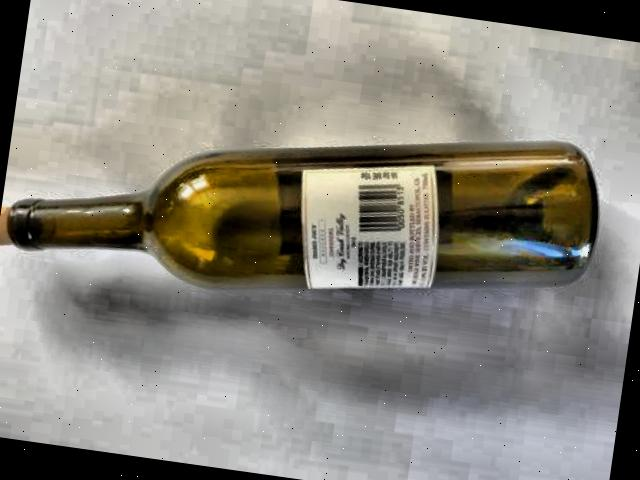Bottles: (0, 55, 617, 351)
